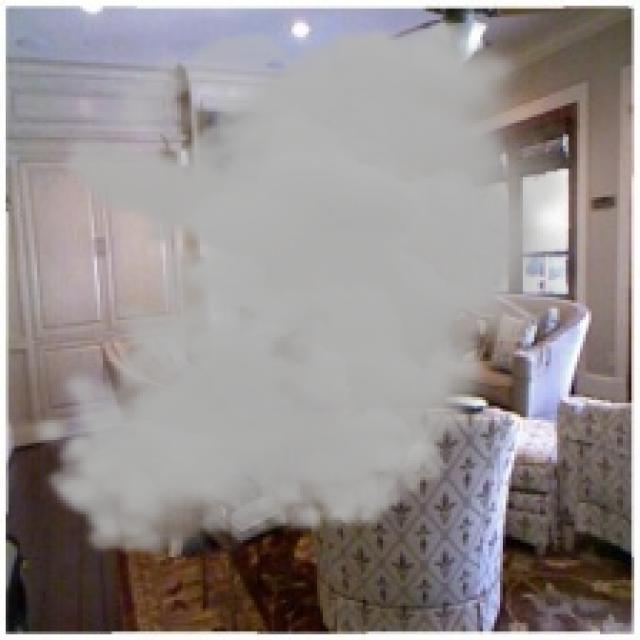Smoke: (26, 11, 594, 560)
